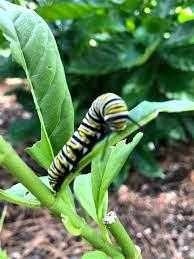Caterpillar: (43, 85, 139, 190)
